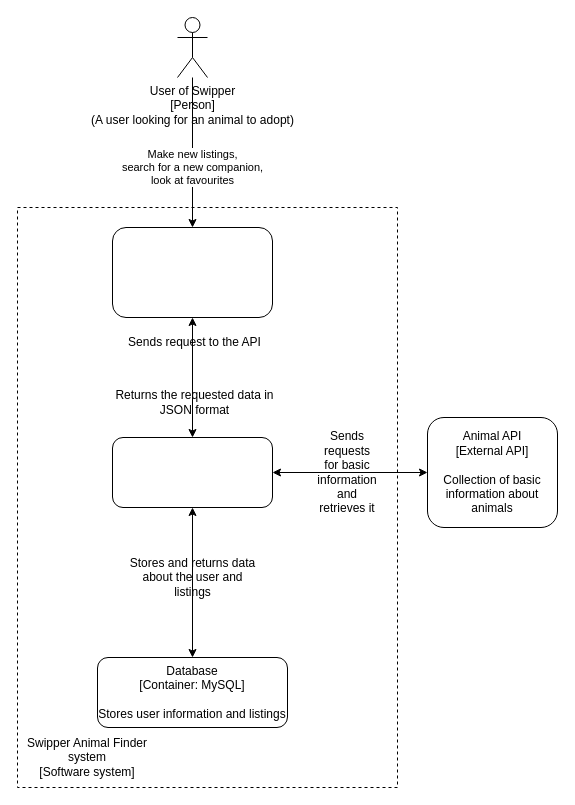
This 575x805 diagram has some shape labels left out. Each missing label, with the centre of its shape:
"Swipper API [Container: ASP.net en ETF]" belongs at point 192,472.
"Swipper Frontend App [Container: React.js] The app the user interacts with" belongs at point 192,272.
